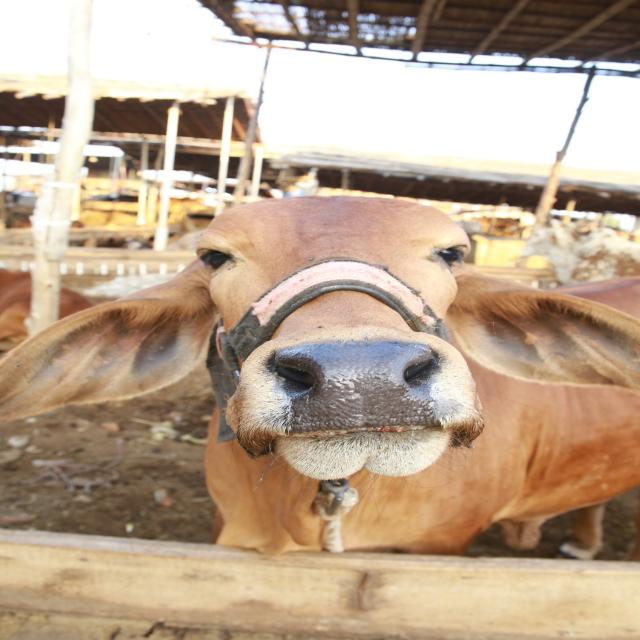muzzles: (261, 335, 474, 442)
